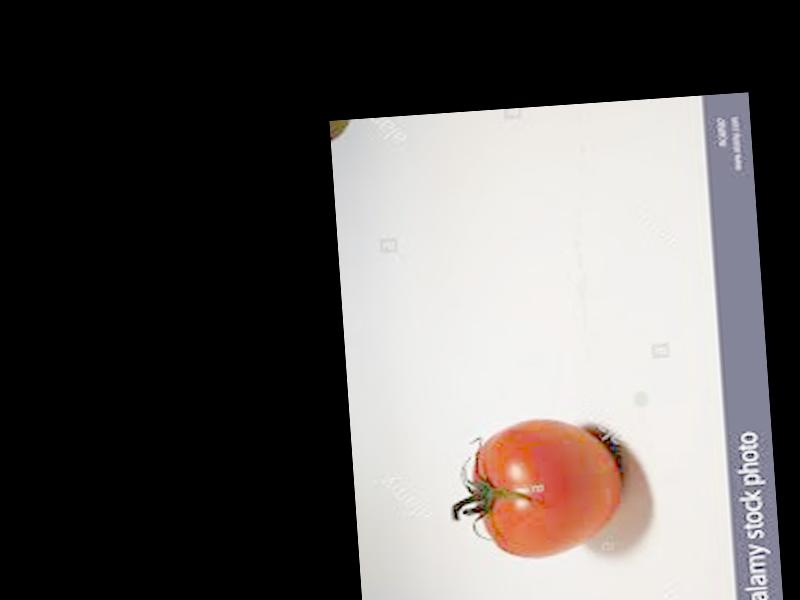Tomato: (471, 414, 626, 560)
